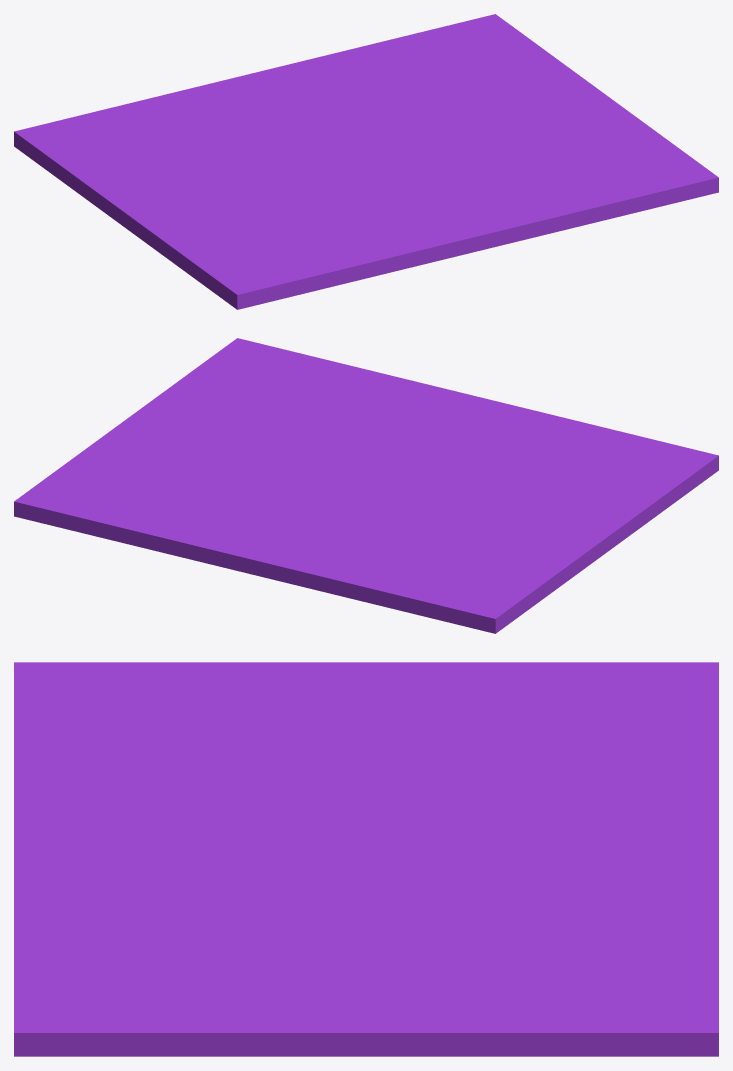
Rendered from Platform_16_chunks.fbx.
3 renders of one model, top to bottom at view 1: azimuth 30°, elevation 25°; view 2: azimuth 150°, elevation 25°; view 3: azimuth 270°, elevation 25°, orthographic. The views are drawn at different scales.
Parts seen in each view (by area): view 1: Platform_16_5, Platform_16_7, Platform_16_4, Platform_16_3, Platform_16_10, Platform_16_1, Platform_16_9, Platform_16_6, Platform_16_14, Platform_16_0, Platform_16_8, Platform_16_13 (+4 smaller); view 2: Platform_16_5, Platform_16_10, Platform_16_4, Platform_16_7, Platform_16_3, Platform_16_1, Platform_16_13, Platform_16_14, Platform_16_9, Platform_16_6, Platform_16_8, Platform_16_0 (+3 smaller); view 3: Platform_16_4, Platform_16_5, Platform_16_10, Platform_16_7, Platform_16_3, Platform_16_1, Platform_16_9, Platform_16_14, Platform_16_8, Platform_16_0, Platform_16_13, Platform_16_6 (+4 smaller).
Boxes of the visible parts, x1,y1,x2,y2 form: Platform_16_5: [14, 112, 245, 216]; Platform_16_7: [206, 190, 389, 309]; Platform_16_4: [385, 79, 668, 173]; Platform_16_3: [483, 141, 718, 242]; Platform_16_10: [92, 80, 396, 152]; Platform_16_1: [373, 148, 497, 272]; Platform_16_9: [417, 46, 584, 119]; Platform_16_6: [111, 199, 227, 299]; Platform_16_14: [405, 14, 539, 79]; Platform_16_0: [325, 149, 391, 266]; Platform_16_8: [215, 132, 335, 191]; Platform_16_13: [226, 35, 410, 89]; Platform_16_5: [397, 504, 603, 633]; Platform_16_10: [255, 472, 418, 612]; Platform_16_4: [104, 374, 347, 474]; Platform_16_7: [458, 426, 718, 506]; Platform_16_3: [188, 338, 464, 425]; Platform_16_1: [345, 393, 563, 476]; Platform_16_13: [95, 510, 283, 581]; Platform_16_14: [14, 469, 172, 535]; Platform_16_9: [58, 436, 243, 491]; Platform_16_6: [527, 478, 704, 562]; Platform_16_8: [377, 471, 500, 544]; Platform_16_0: [359, 417, 599, 495]; Platform_16_4: [170, 863, 439, 1056]; Platform_16_5: [331, 662, 718, 777]; Platform_16_10: [367, 722, 718, 892]; Platform_16_7: [14, 662, 344, 800]; Platform_16_3: [14, 857, 212, 1038]; Platform_16_1: [14, 781, 370, 899]; Platform_16_9: [398, 927, 594, 1056]; Platform_16_14: [545, 942, 718, 1056]; Platform_16_8: [270, 749, 557, 827]; Platform_16_0: [14, 753, 413, 852]; Platform_16_13: [631, 825, 718, 967]; Platform_16_6: [112, 662, 375, 732].
Bounding box in the file's own units: 1009 × 29.87 × 810.
